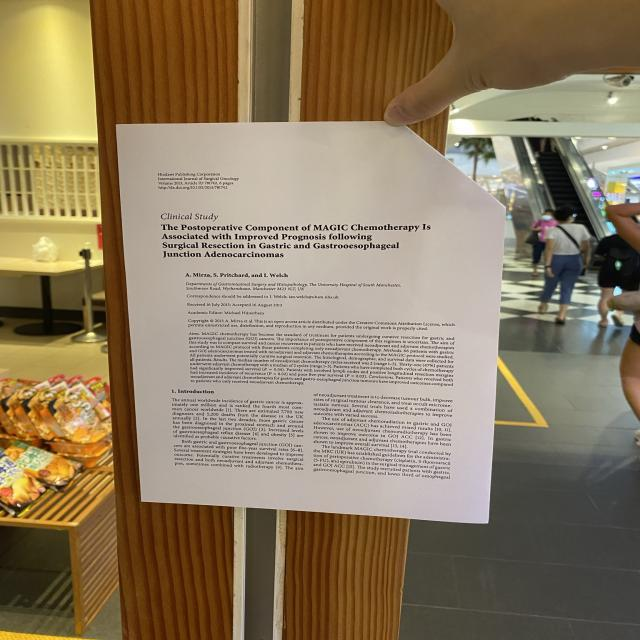document: (117, 122, 503, 522)
